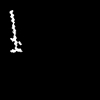double_crochet: (10, 10, 21, 51)
